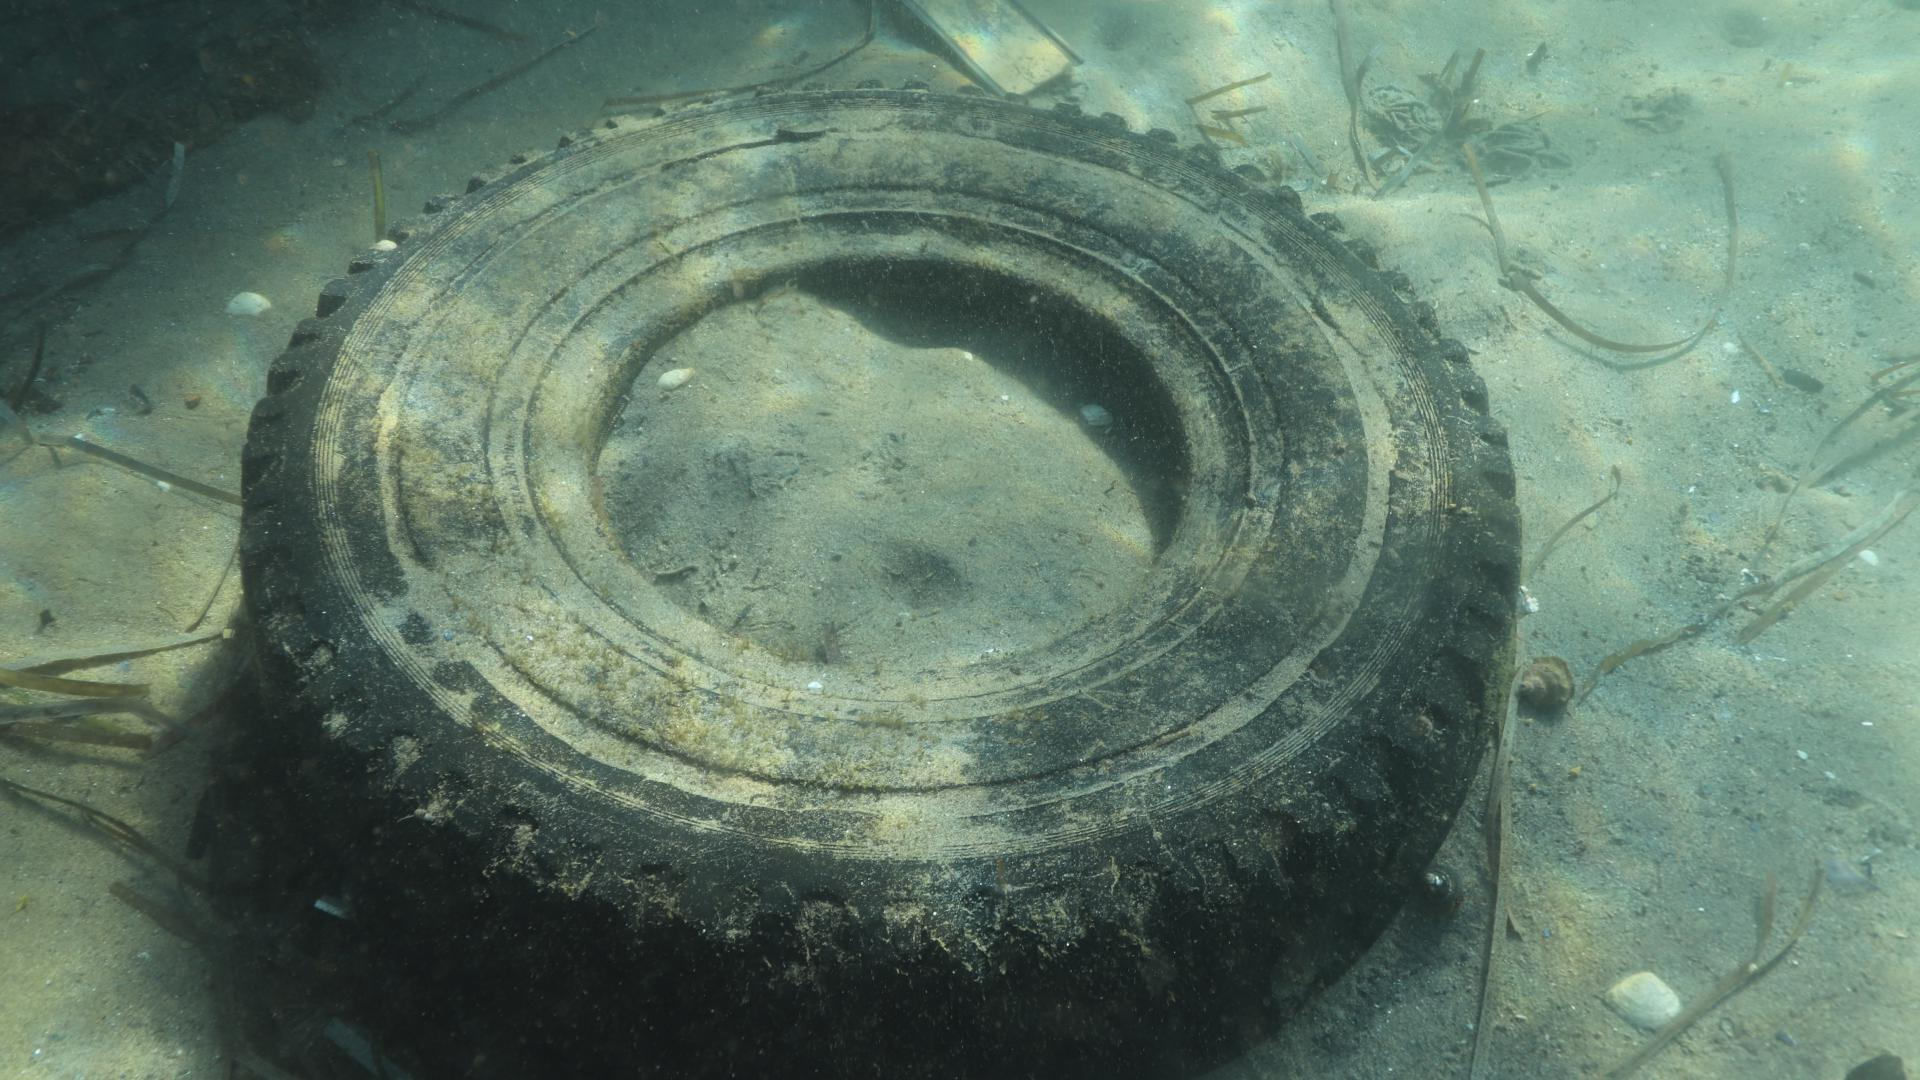tire: (237, 82, 1523, 1080)
